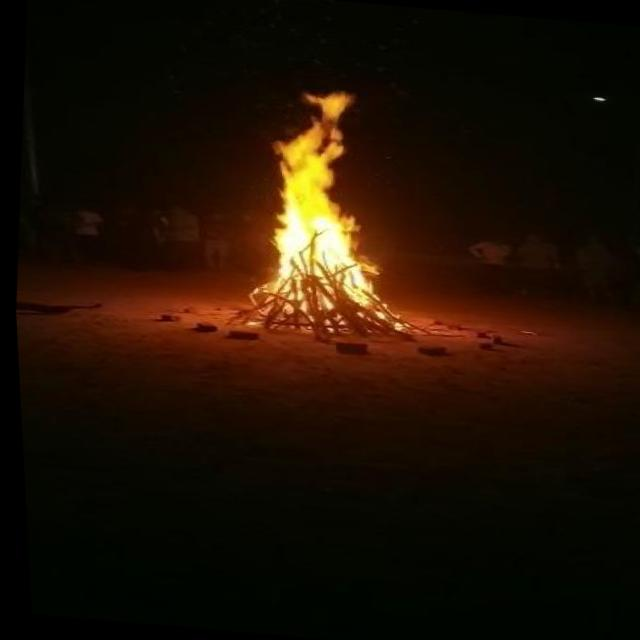fire: (216, 68, 417, 334)
